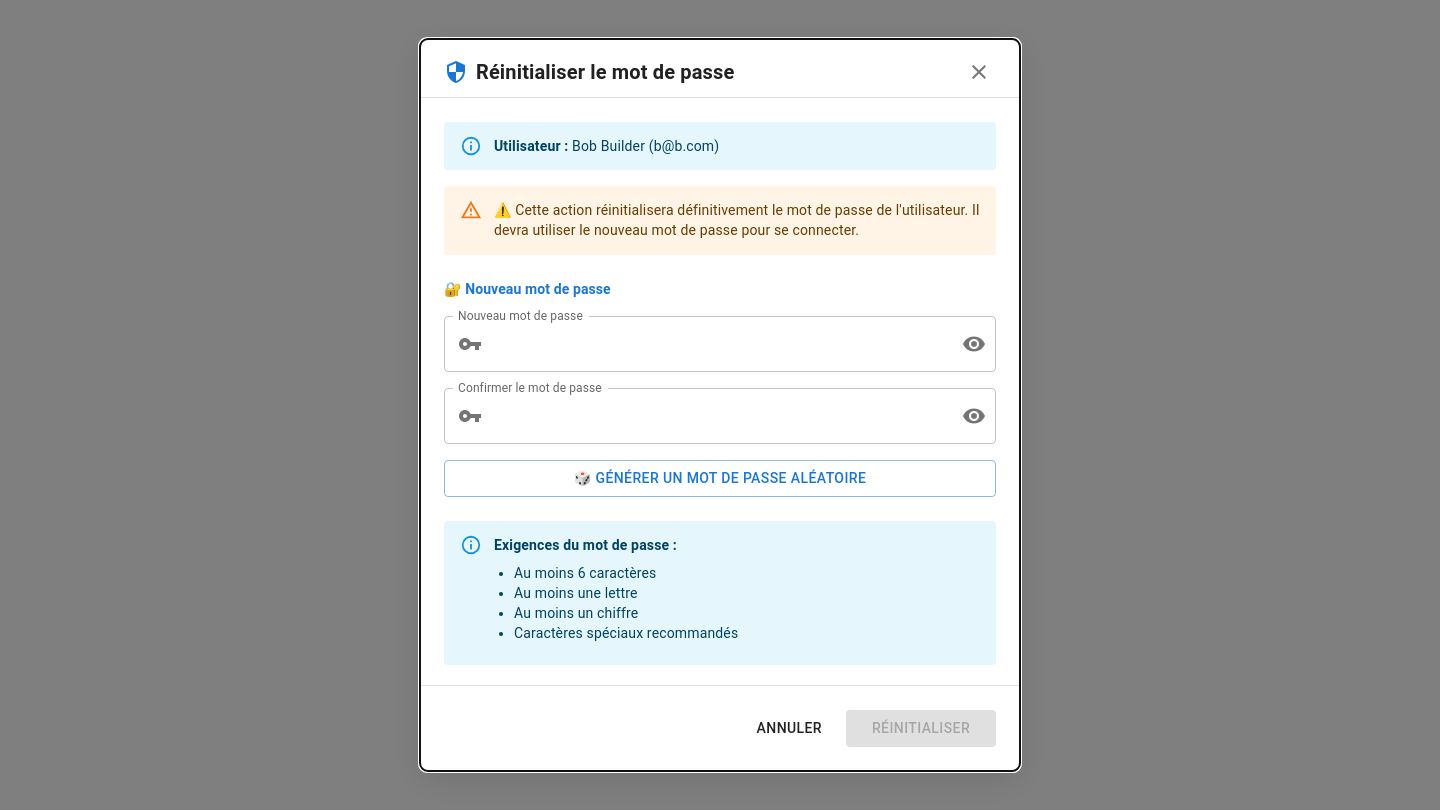
Test case: PasswordResetDialog — validation › rejects mismatched passwords
The width and height of the screenshot is (1440, 810).
Type "abcd1234" into the password field labelled "Nouveau mot de passe" at {"x": 718, "y": 344}, box [490, 316, 946, 372]
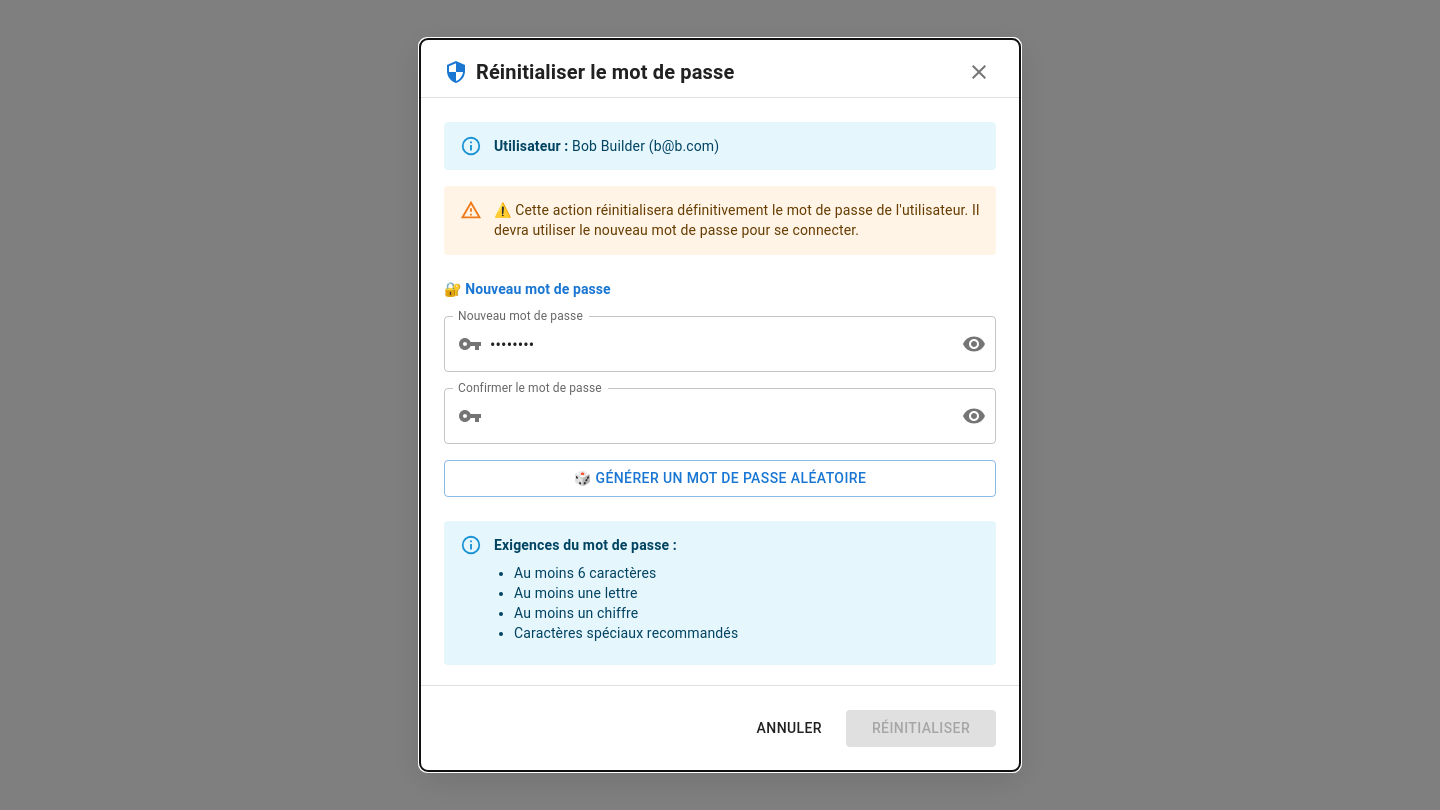
Type "wxyz9876" into the password field labelled "Confirmer le mot de passe" at {"x": 718, "y": 416}, box [490, 388, 946, 444]
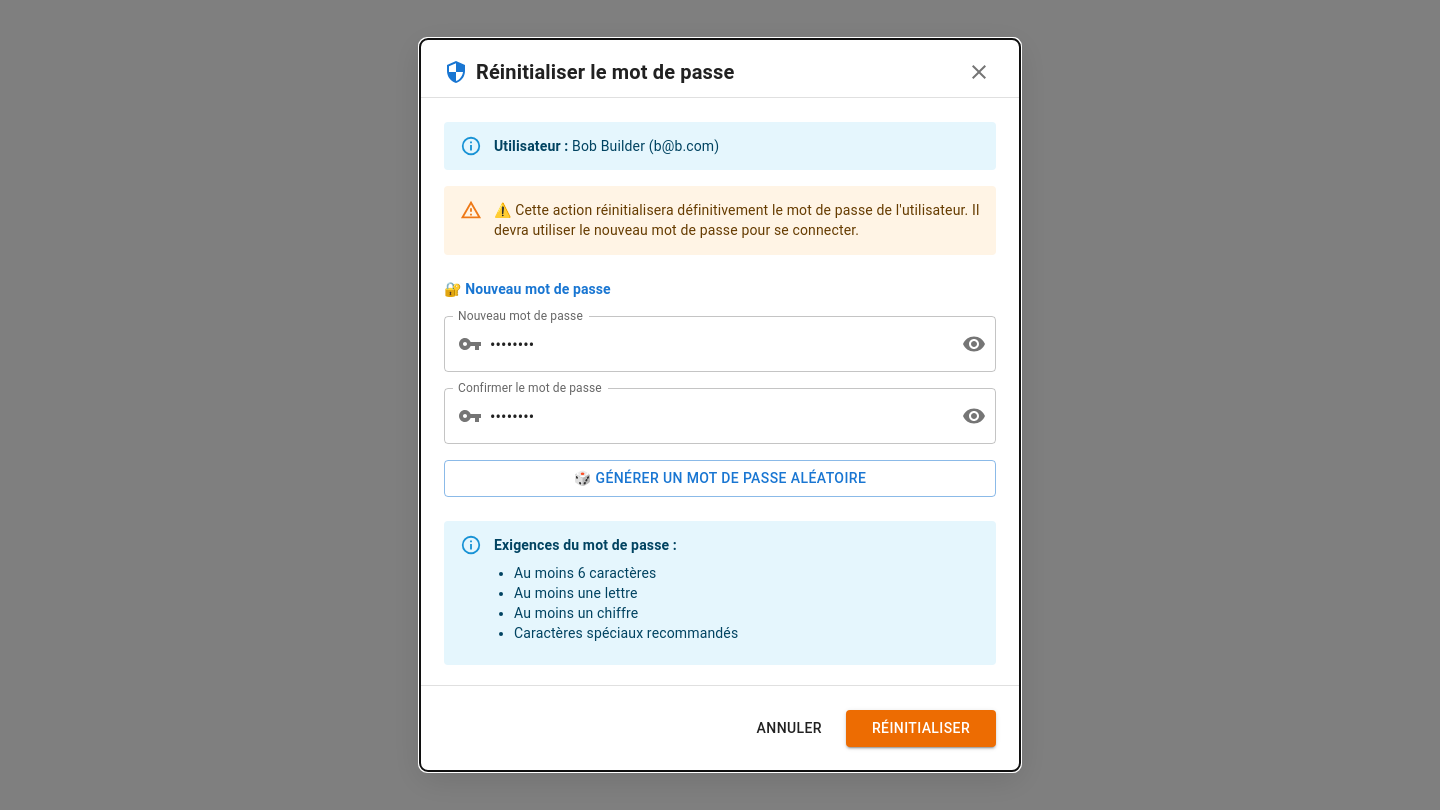
Click the button "Réinitialiser" at {"x": 921, "y": 728}, box [846, 710, 996, 746]
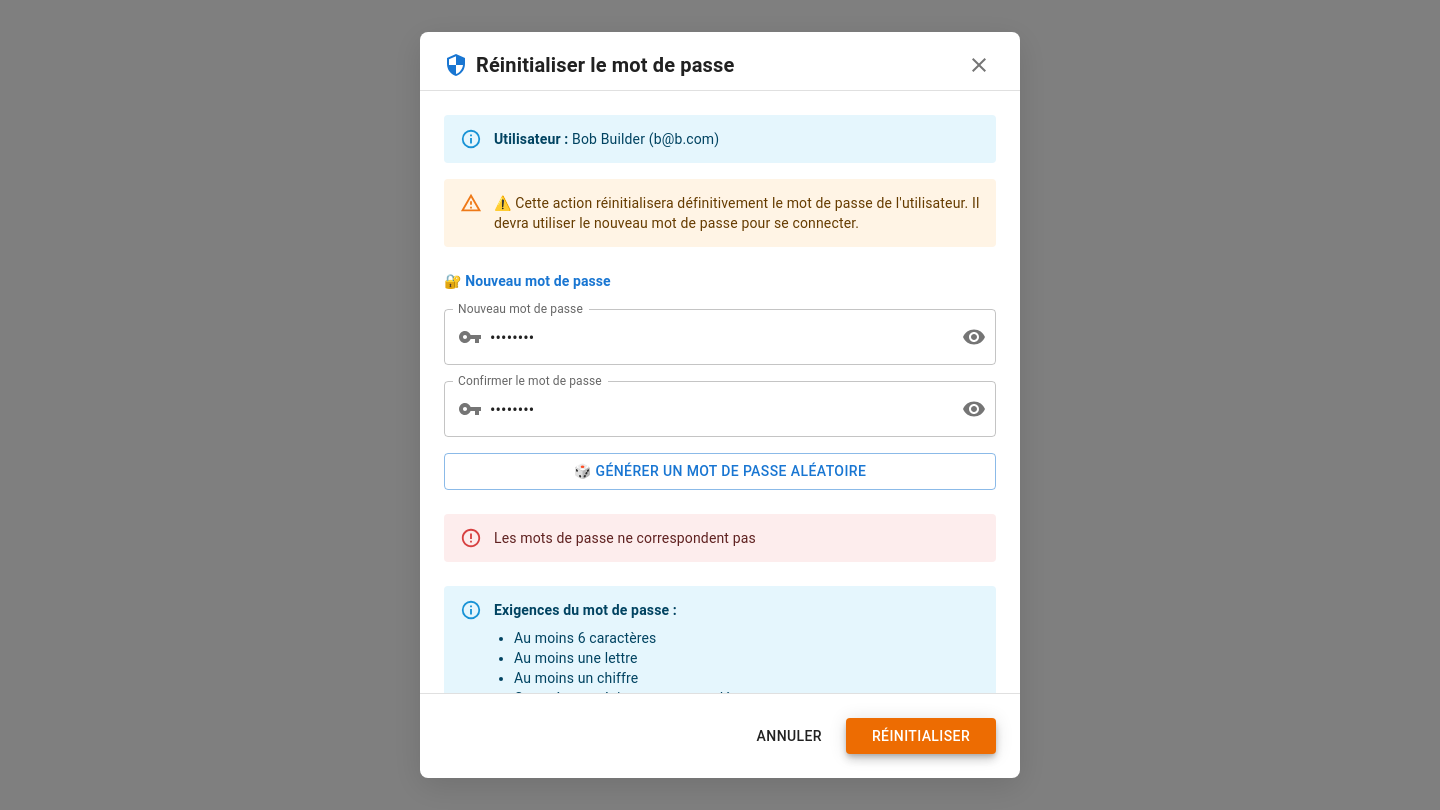
Expected: the text "Les mots de passe ne correspondent pas" is shown, [494, 530, 756, 546]
